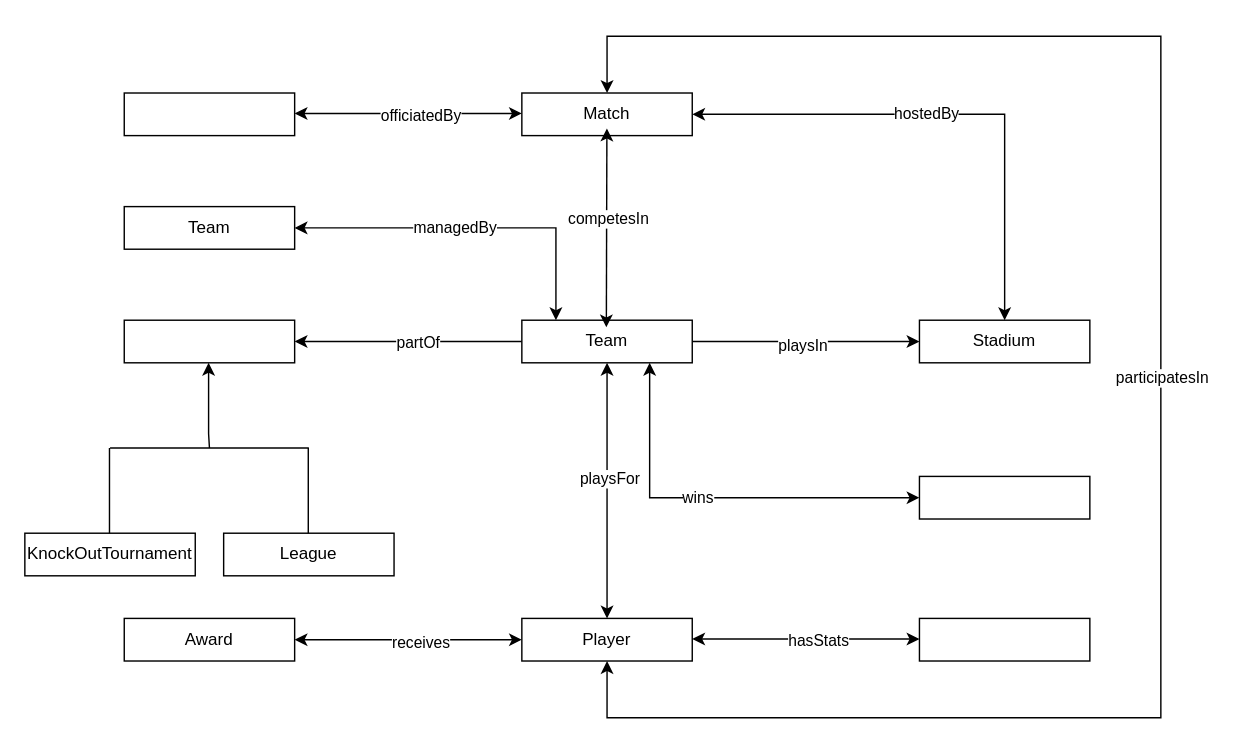
Image size: 1233x755. Some labels were removed from this diagram. The shapes that lost their labels are listed below. From the top down, each one's centre as x and y in pixels, then its label:
pixel 209 114: Referee
pixel 209 341: Tournament
pixel 1004 497: Trophy
pixel 1004 639: PerformanceStats
